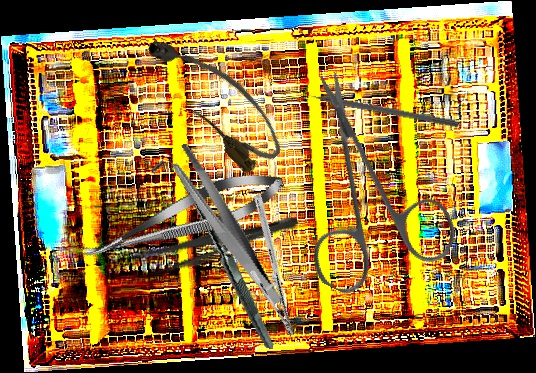Cannula: (138, 17, 293, 180)
Dressing Forceps: (168, 130, 282, 321), (114, 204, 302, 290)
Hook Surgical: (120, 159, 307, 350)
Iris Scissors: (238, 67, 498, 328)
Micro Scissor: (73, 159, 291, 276)
Needle Holder: (203, 192, 346, 339)
Pusher: (290, 86, 461, 129)
